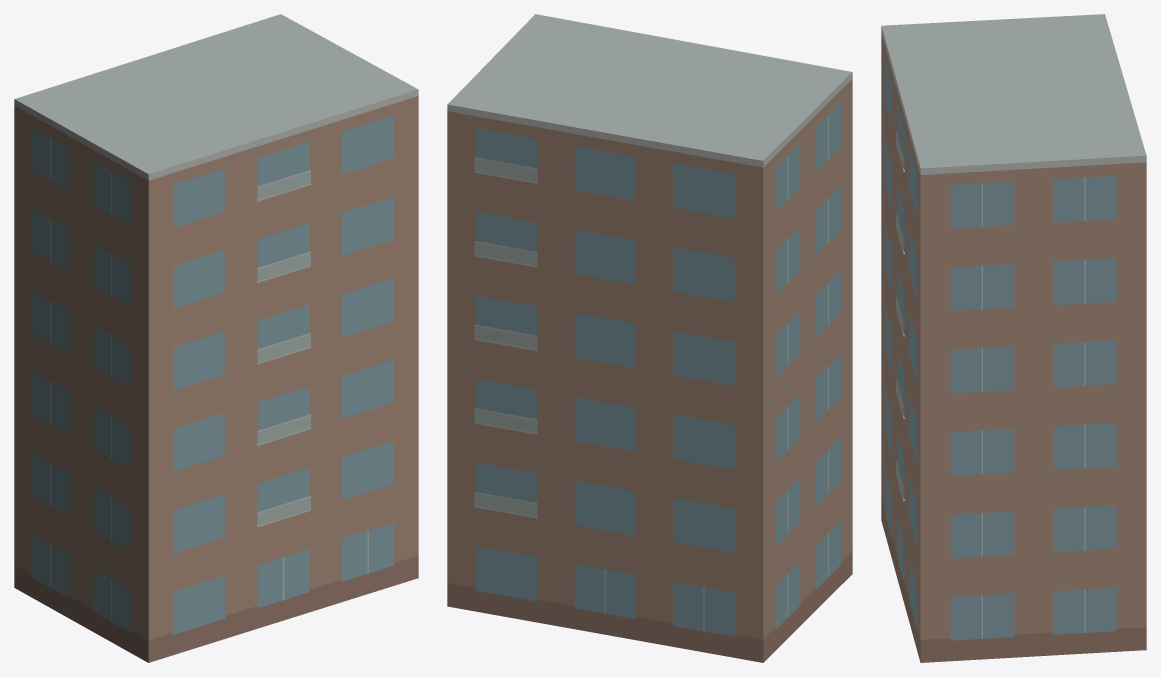
Rendered from survey-upis-32742118.glb.
3 renders of one model, left to right at view 1: azimuth 30°, elevation 25°; view 2: azimuth 150°, elevation 25°; view 3: azimuth 270°, elevation 25°, orthographic. The views are drawn at different scales.
Visible parts, largest first — view 1: survey-upis-32742118.tmp; view 2: survey-upis-32742118.tmp; view 3: survey-upis-32742118.tmp.
Boxes of the visible parts, x1,y1,x2,y2 form: survey-upis-32742118.tmp: (14,14,418,662); survey-upis-32742118.tmp: (447,14,852,662); survey-upis-32742118.tmp: (881,14,1146,662).
Size of the model in its own units: 12.28 by 18.3 by 8.91.
